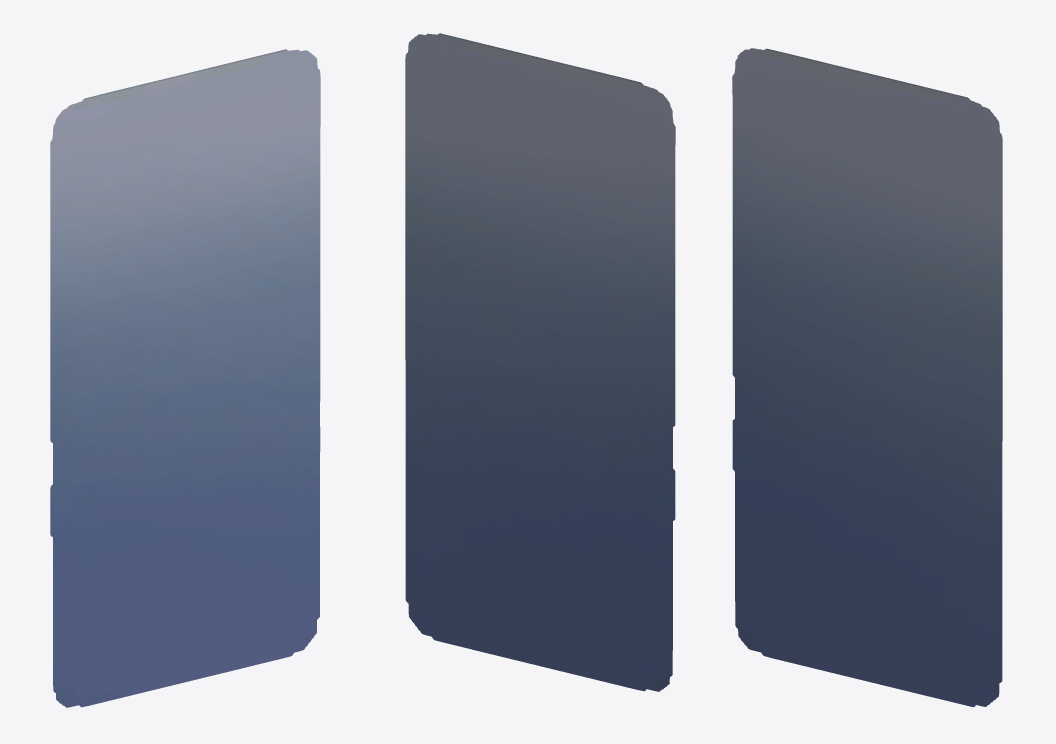
File: Player_Maid_Sushang_LookAtPhone_00.fbx
3 views of the same model, side by side, from view 1: azimuth 30°, elevation 25°; view 2: azimuth 150°, elevation 25°; view 3: azimuth 330°, elevation 25° (orthographic).
Visible parts, largest first — view 1: LookAtPhone_00_Phone_Model; view 2: LookAtPhone_00_Phone_Model; view 3: LookAtPhone_00_Phone_Model.
Boxes of the visible parts, x1=… form: LookAtPhone_00_Phone_Model: x1=50, y1=49, x2=320, y2=707; LookAtPhone_00_Phone_Model: x1=405, y1=33, x2=675, y2=691; LookAtPhone_00_Phone_Model: x1=732, y1=48, x2=1002, y2=706.
Bounding box in the file's own units: 0.066 × 0.1328 × 0.0081.
Materials: 1 (1 with a texture image).
